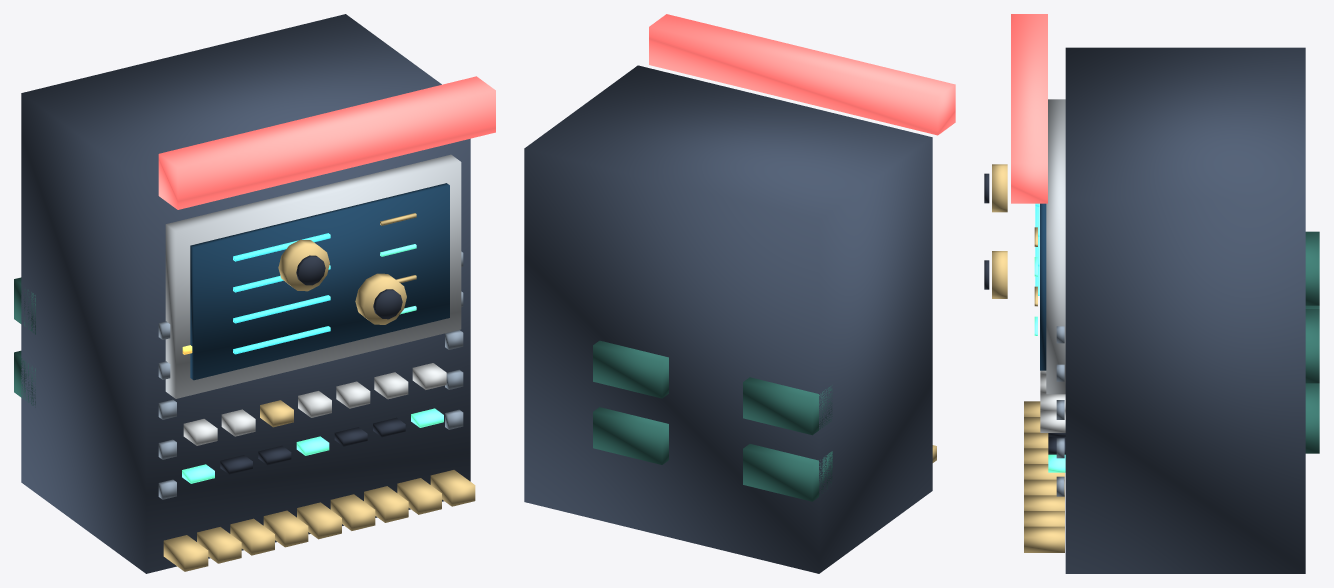
Rendered from 92_L91_W163CriticalTimePatchStation.glb.
3 renders of one model, left to right at view 1: azimuth 30°, elevation 25°; view 2: azimuth 150°, elevation 25°; view 3: azimuth 270°, elevation 25°, orthographic. The views are drawn at different scales.
Parts seen in each view (by area): view 1: L91_W163CriticalTimePatchStat_Part_0000, L91_W163CriticalTimePatchStat_Part_0002, L91_W163CriticalTimePatchStat_Part_0011, L91_W163CriticalTimePatchStat_Part_0001, L91_W163CriticalTimePatchStat_Part_0004, L91_W163CriticalTimePatchStat_Part_0006, L91_W163CriticalTimePatchStat_Part_0008, L91_W163CriticalTimePatchStat_Part_0003, L91_W163CriticalTimePatchStat_Part_0007, L91_W163CriticalTimePatchStat_Part_0005, L91_W163CriticalTimePatchStat_Part_0014, L91_W163CriticalTimePatchStat_Part_0012 (+3 smaller); view 2: L91_W163CriticalTimePatchStat_Part_0000, L91_W163CriticalTimePatchStat_Part_0011, L91_W163CriticalTimePatchStat_Part_0009; view 3: L91_W163CriticalTimePatchStat_Part_0000, L91_W163CriticalTimePatchStat_Part_0011, L91_W163CriticalTimePatchStat_Part_0001, L91_W163CriticalTimePatchStat_Part_0004, L91_W163CriticalTimePatchStat_Part_0009, L91_W163CriticalTimePatchStat_Part_0002, L91_W163CriticalTimePatchStat_Part_0006, L91_W163CriticalTimePatchStat_Part_0008, L91_W163CriticalTimePatchStat_Part_0012, L91_W163CriticalTimePatchStat_Part_0014, L91_W163CriticalTimePatchStat_Part_0005.
Boxes of the visible parts, box(x1,y1,x2,y2) form: L91_W163CriticalTimePatchStat_Part_0000: box(21, 14, 470, 573); L91_W163CriticalTimePatchStat_Part_0002: box(190, 183, 449, 380); L91_W163CriticalTimePatchStat_Part_0011: box(158, 76, 495, 209); L91_W163CriticalTimePatchStat_Part_0001: box(165, 154, 461, 398); L91_W163CriticalTimePatchStat_Part_0004: box(163, 213, 475, 571); L91_W163CriticalTimePatchStat_Part_0006: box(183, 363, 446, 445); L91_W163CriticalTimePatchStat_Part_0008: box(158, 251, 463, 499); L91_W163CriticalTimePatchStat_Part_0003: box(233, 233, 330, 354); L91_W163CriticalTimePatchStat_Part_0007: box(220, 417, 405, 474); L91_W163CriticalTimePatchStat_Part_0005: box(182, 244, 443, 483); L91_W163CriticalTimePatchStat_Part_0014: box(355, 273, 406, 324); L91_W163CriticalTimePatchStat_Part_0012: box(278, 239, 329, 291); L91_W163CriticalTimePatchStat_Part_0000: box(524, 65, 932, 573); L91_W163CriticalTimePatchStat_Part_0011: box(649, 14, 955, 135); L91_W163CriticalTimePatchStat_Part_0009: box(593, 340, 832, 501); L91_W163CriticalTimePatchStat_Part_0000: box(1065, 47, 1305, 573); L91_W163CriticalTimePatchStat_Part_0011: box(1011, 14, 1047, 203); L91_W163CriticalTimePatchStat_Part_0001: box(1046, 99, 1065, 394); L91_W163CriticalTimePatchStat_Part_0004: box(1024, 227, 1064, 552); L91_W163CriticalTimePatchStat_Part_0009: box(1305, 231, 1319, 453); L91_W163CriticalTimePatchStat_Part_0002: box(1040, 203, 1046, 370); L91_W163CriticalTimePatchStat_Part_0006: box(1040, 370, 1065, 432); L91_W163CriticalTimePatchStat_Part_0008: box(1056, 326, 1064, 496); L91_W163CriticalTimePatchStat_Part_0012: box(992, 164, 1007, 212); L91_W163CriticalTimePatchStat_Part_0014: box(992, 251, 1007, 298); L91_W163CriticalTimePatchStat_Part_0005: box(1034, 257, 1065, 472).
Bounding box in the file's own units: 0.969 × 1.22 × 0.903.
